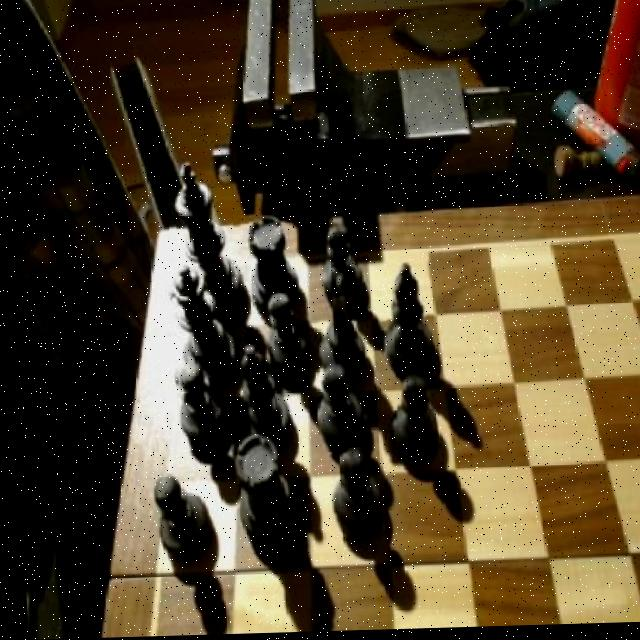bishop: (373, 264, 435, 378), (229, 345, 287, 452)
black-bishop: (164, 161, 241, 322)
black-king: (313, 269, 366, 384)
black-knight: (148, 472, 208, 572), (309, 367, 364, 457), (323, 450, 377, 540), (169, 363, 224, 451), (378, 378, 432, 462), (258, 295, 306, 384), (313, 226, 359, 310)
black-pawn: (166, 264, 236, 394)
black-queen: (228, 434, 291, 545), (245, 217, 294, 316)
